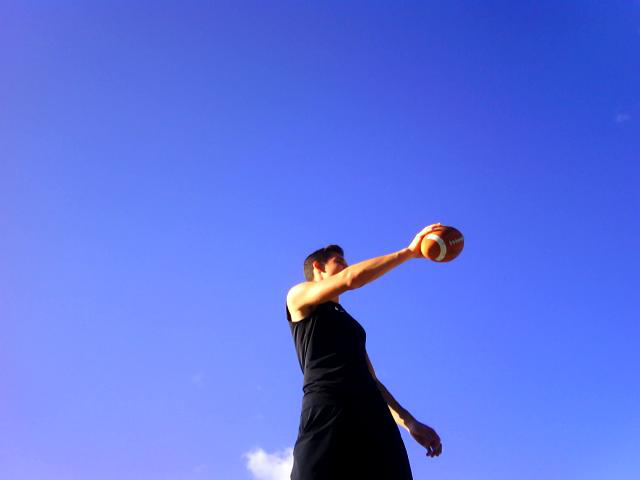footbal: (420, 223, 466, 263)
